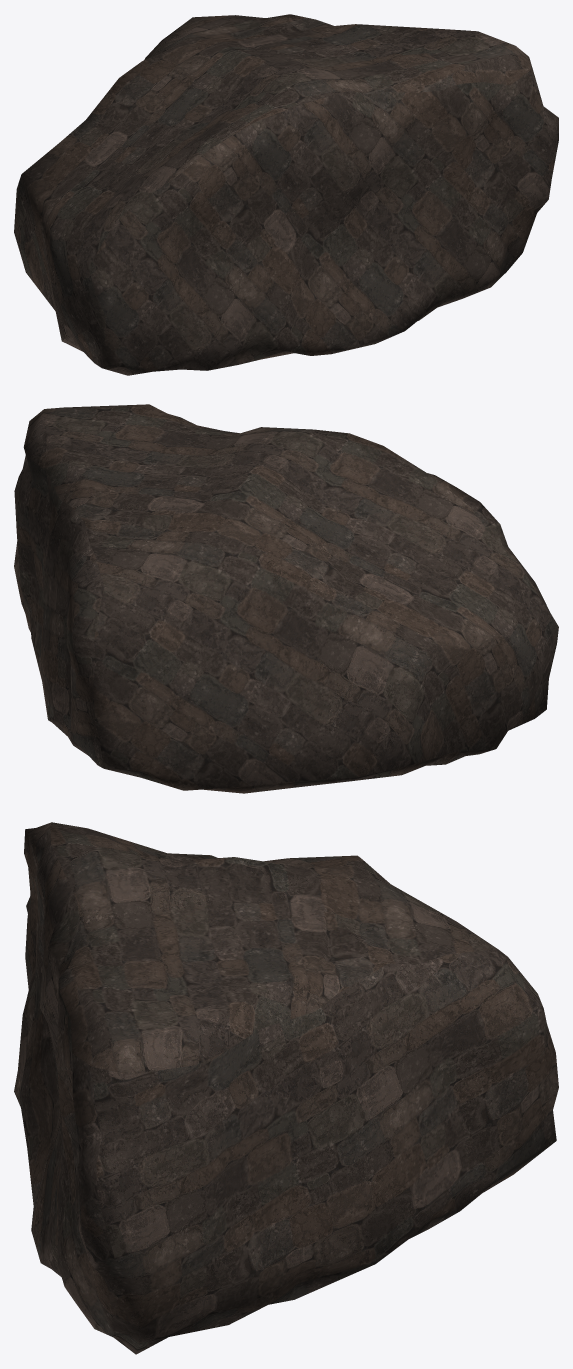
File: aeg270_518.glb
3 views of the same model, one above another, from view 1: azimuth 30°, elevation 25°; view 2: azimuth 150°, elevation 25°; view 3: azimuth 270°, elevation 25° (orthographic). The views are drawn at different scales.
Visible parts, largest first — view 1: mesh[0]; view 2: mesh[0]; view 3: mesh[0].
Part boxes in pixels (<box>): mesh[0]: <box>14,14,558,375</box>; mesh[0]: <box>14,404,558,793</box>; mesh[0]: <box>14,822,558,1354</box>.
Size of the model in its own units: 10.09 by 5.27 by 7.1.
1 material, 1 textured.
